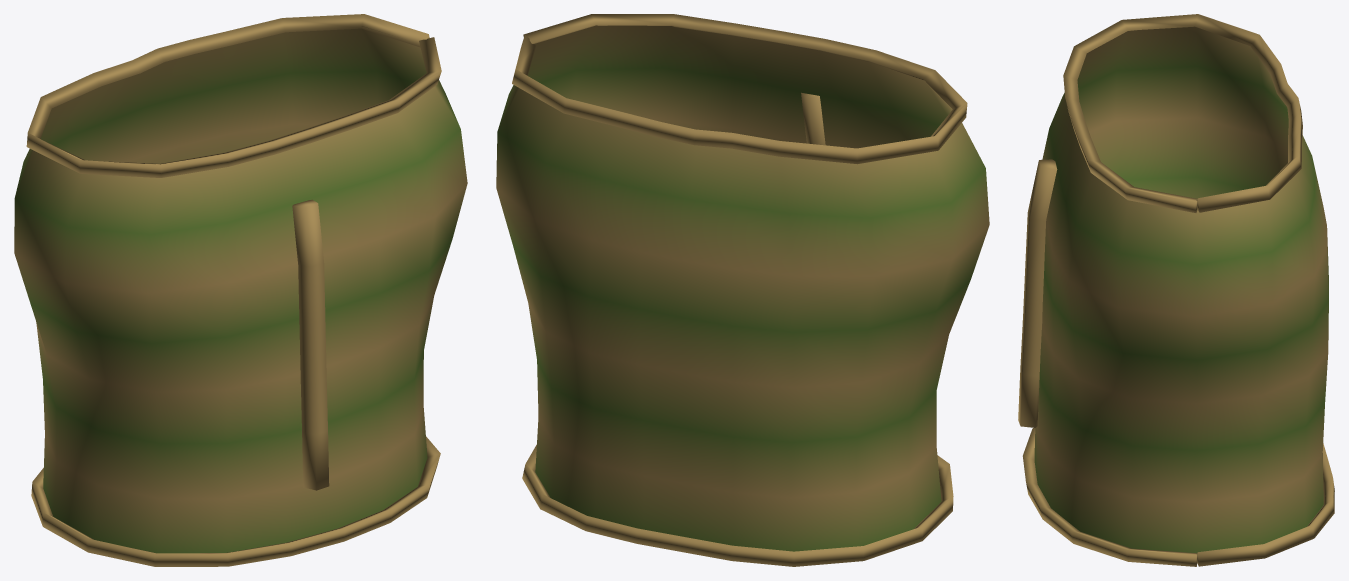
File: turtle_armor_chest.glb
3 views of the same model, side by side, from view 1: azimuth 30°, elevation 25°; view 2: azimuth 150°, elevation 25°; view 3: azimuth 270°, elevation 25° (orthographic). The views are drawn at different scales.
Visible parts, largest first — view 1: turtle_armor_chest; view 2: turtle_armor_chest; view 3: turtle_armor_chest.
Part boxes in pixels (x1,y1,x2,y2): turtle_armor_chest: (14,14,467,566); turtle_armor_chest: (496,14,989,566); turtle_armor_chest: (1018,14,1334,566).
Bounding box in the file's own units: 0.4364 × 0.3859 × 0.2937.
